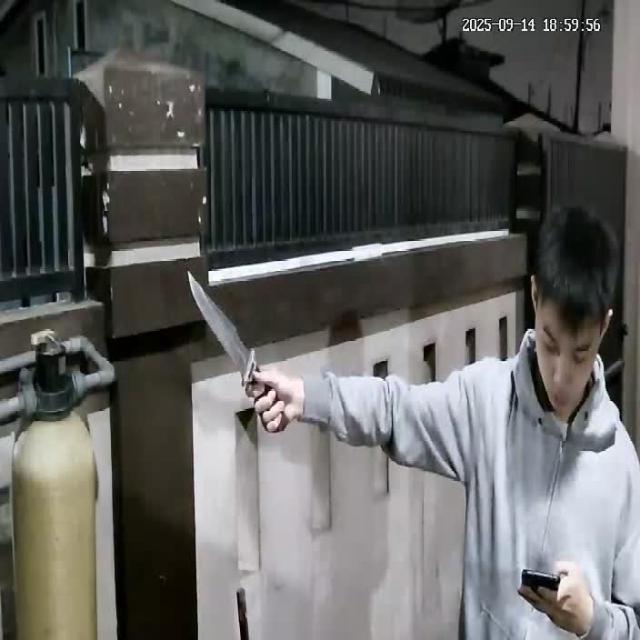senjata_tajam: (186, 268, 258, 385)
